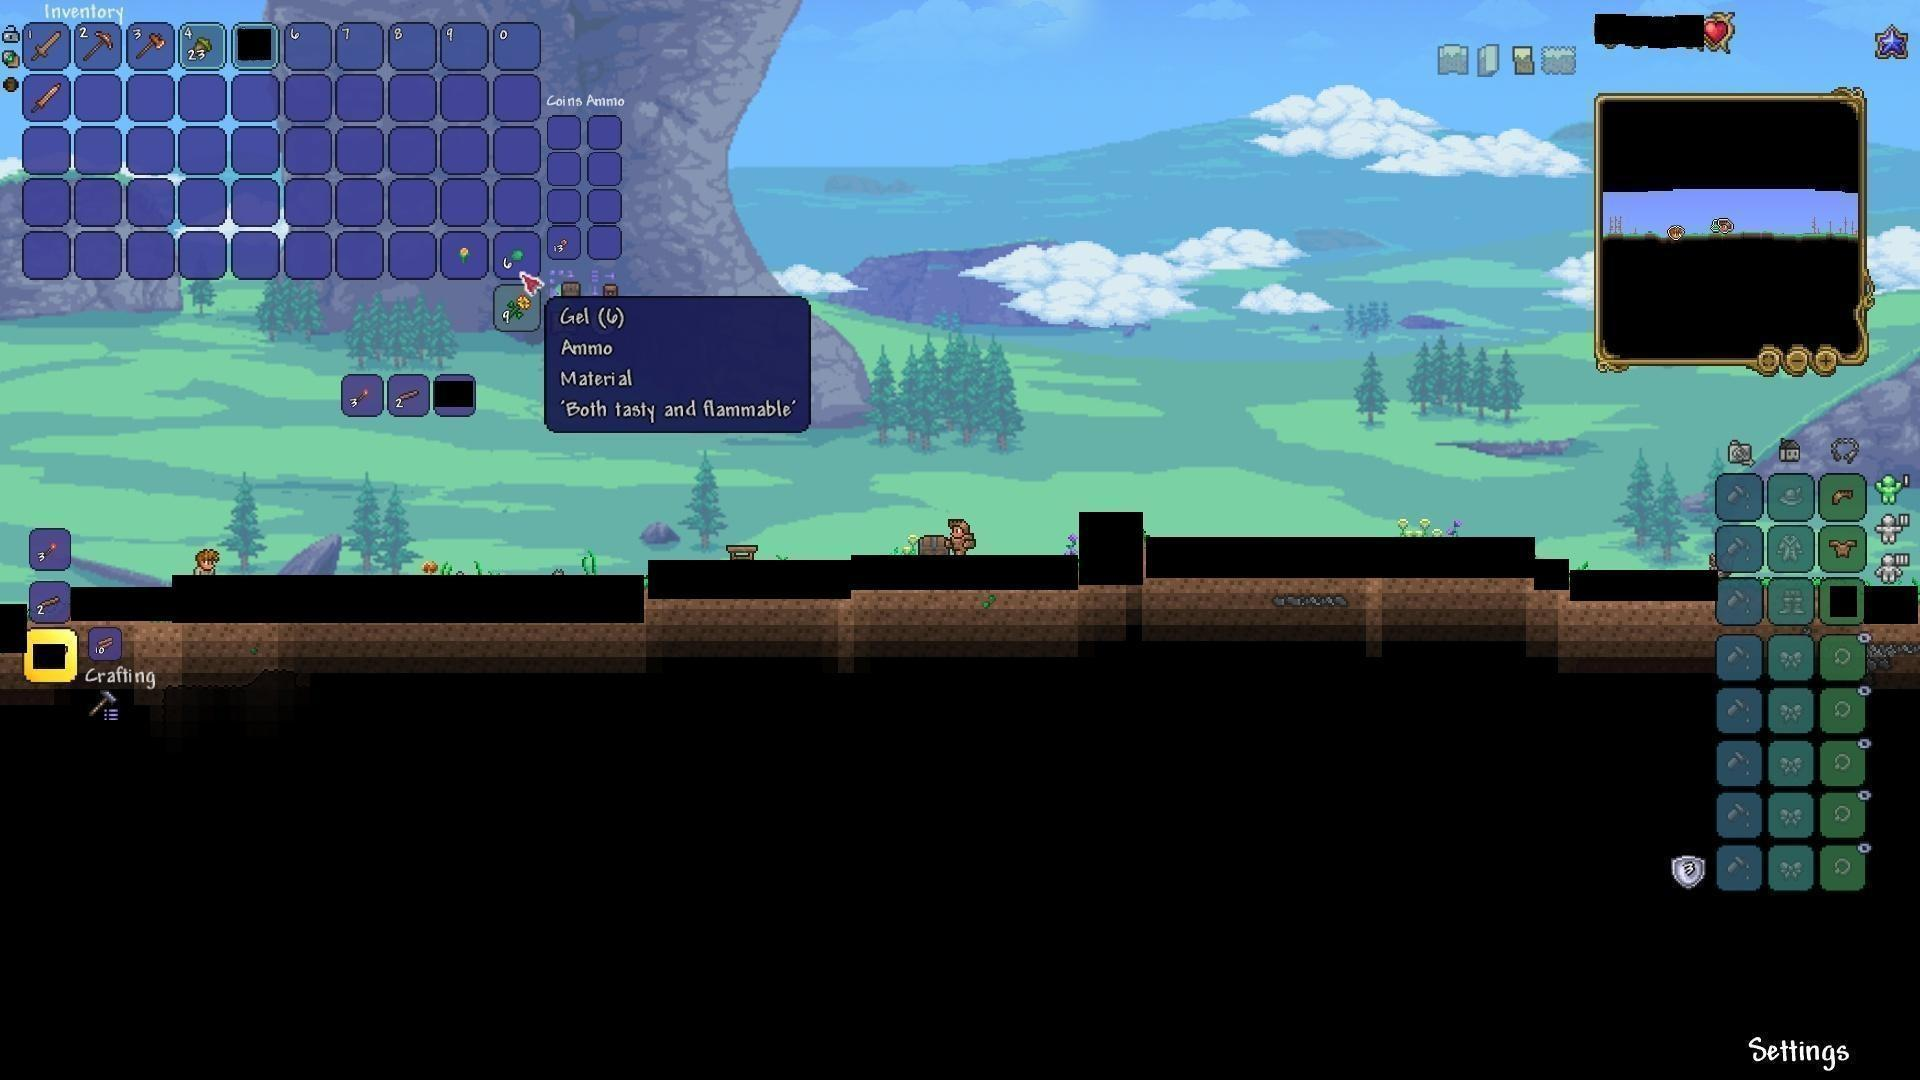breastplate: (1829, 537, 1859, 558)
heart: (1704, 16, 1731, 47)
helmet: (1826, 483, 1858, 510)
wood: (88, 629, 120, 659)
workbench: (725, 542, 761, 563)
